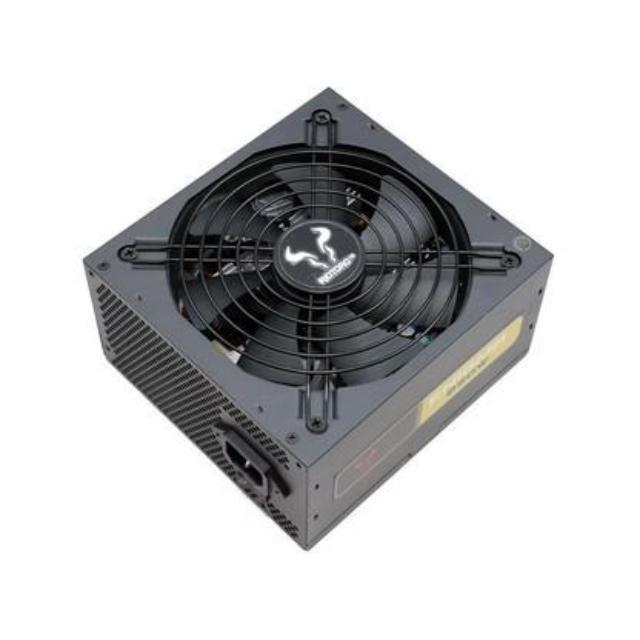PSU: (80, 74, 566, 572)
